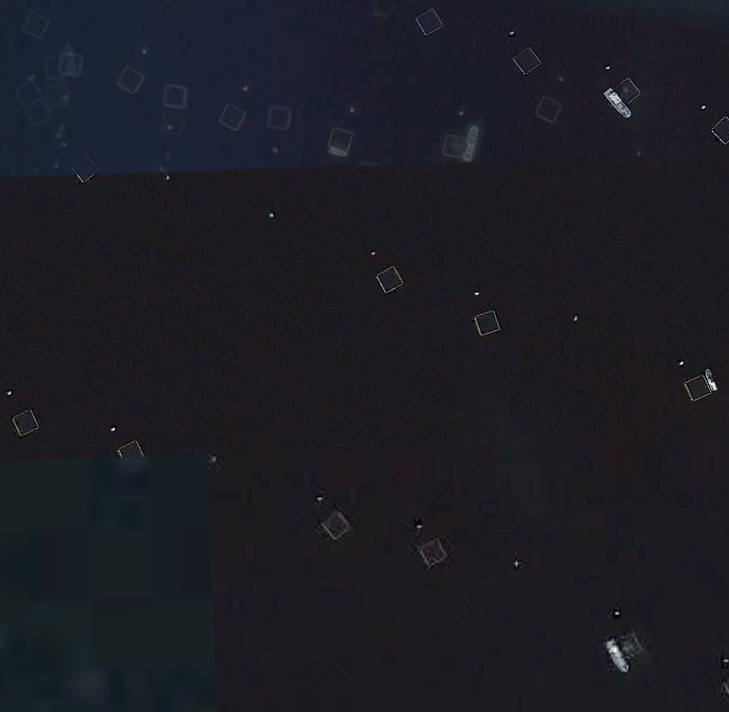ship: (601, 87, 638, 121), (603, 635, 631, 676), (462, 122, 481, 164), (704, 368, 721, 394)
square: (370, 258, 414, 304), (2, 401, 47, 445), (408, 532, 453, 573), (466, 304, 510, 345), (321, 499, 356, 547), (426, 127, 470, 164), (504, 35, 541, 72), (320, 121, 355, 157), (411, 3, 449, 36), (67, 151, 100, 189), (533, 90, 563, 126), (114, 64, 148, 94), (156, 81, 189, 111), (264, 106, 296, 132), (217, 104, 246, 132), (120, 437, 143, 463)
